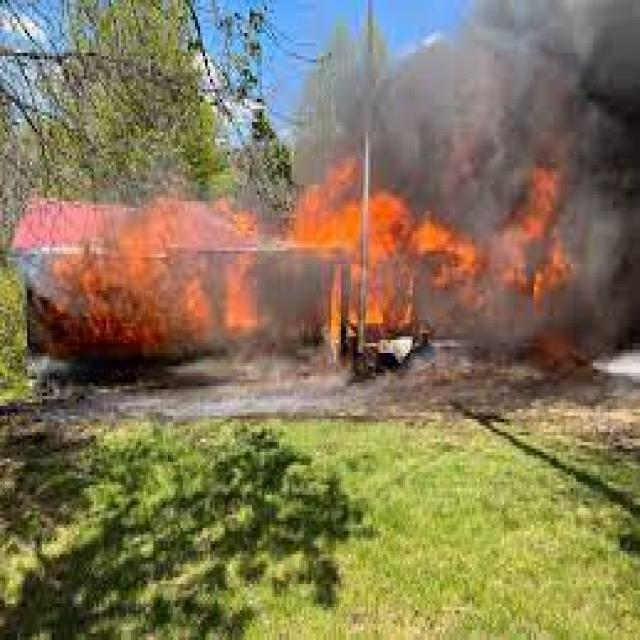Fire: (302, 190, 578, 316), (60, 260, 273, 352)
Smoke: (374, 6, 640, 242), (551, 162, 640, 344), (261, 244, 321, 348)
